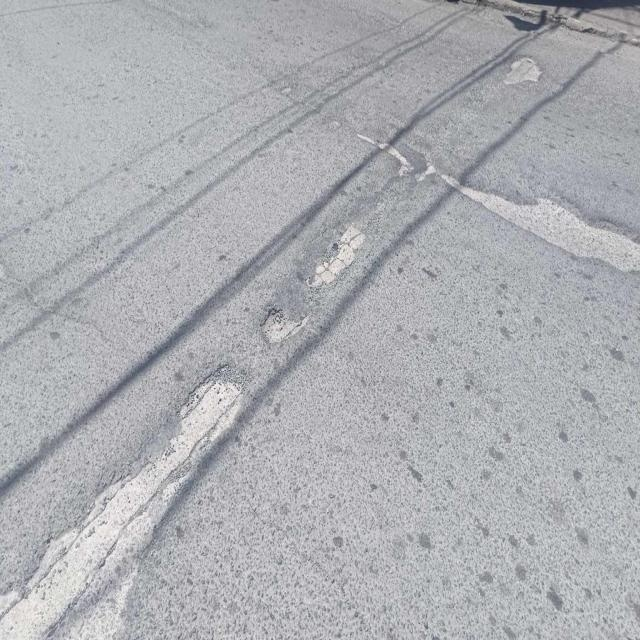pothole: (6, 381, 292, 640), (460, 137, 640, 319), (258, 194, 384, 358)
